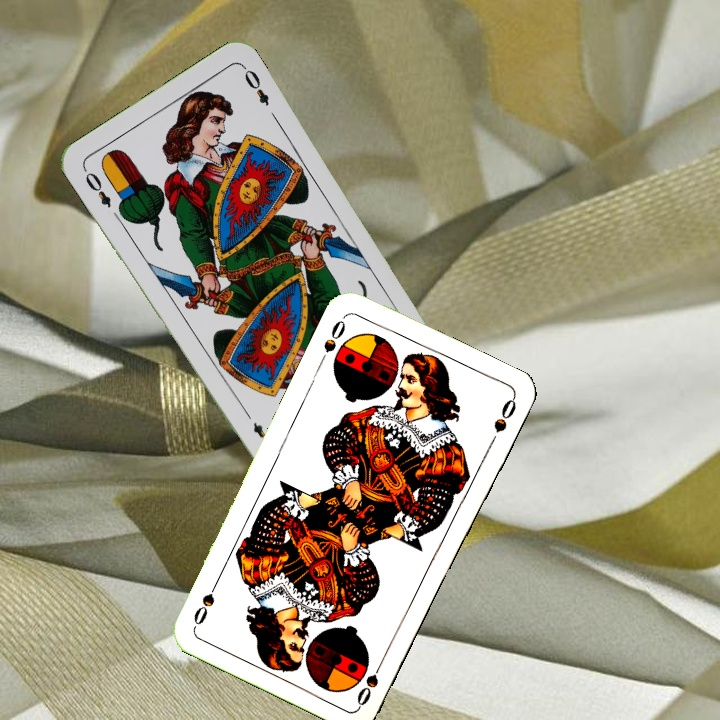EO: (79, 164, 114, 211)
SO: (352, 653, 388, 709), (319, 312, 349, 355)
